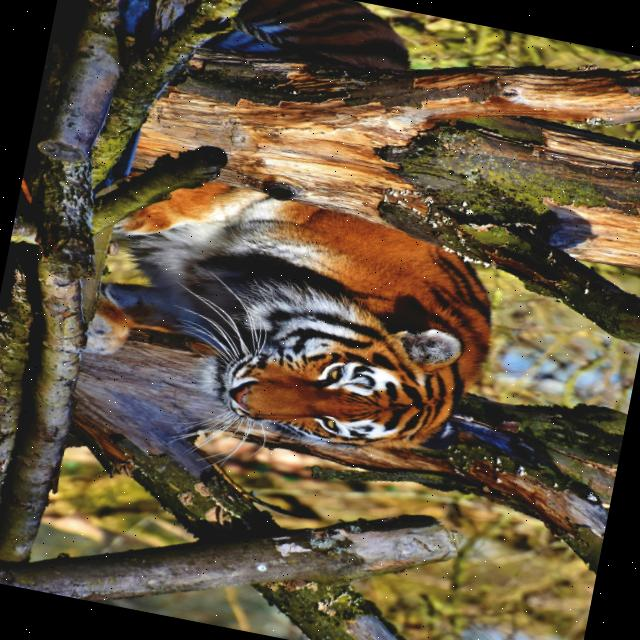Tiger: (72, 0, 554, 475)
